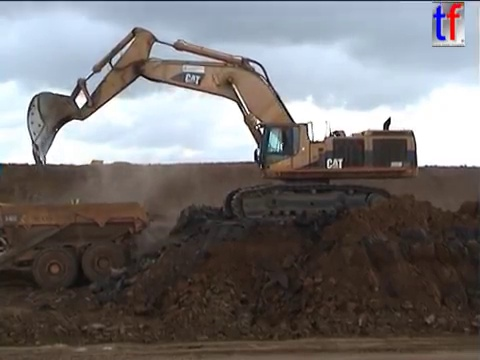excavator: (24, 24, 421, 228)
truck: (1, 199, 150, 292), (89, 158, 104, 172)
worker: (68, 190, 82, 219)
